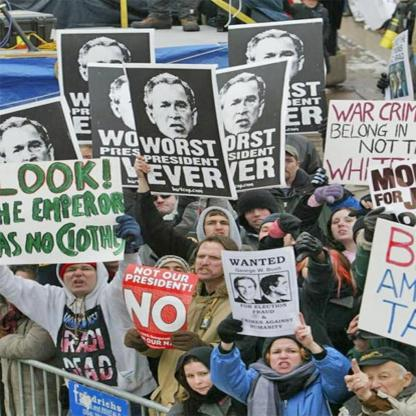face: (7, 131, 52, 177), (155, 90, 194, 139), (223, 90, 259, 137), (121, 86, 158, 131), (362, 363, 400, 403), (258, 46, 299, 81), (89, 53, 124, 87), (196, 245, 227, 280), (271, 341, 302, 374), (64, 265, 97, 294), (185, 366, 215, 395), (260, 226, 292, 251), (332, 214, 359, 240), (148, 192, 177, 215), (205, 218, 230, 243), (246, 207, 272, 230), (160, 265, 185, 288), (274, 155, 297, 180), (76, 150, 94, 172), (238, 282, 256, 301), (16, 275, 34, 293), (277, 280, 290, 296), (354, 341, 367, 352)
